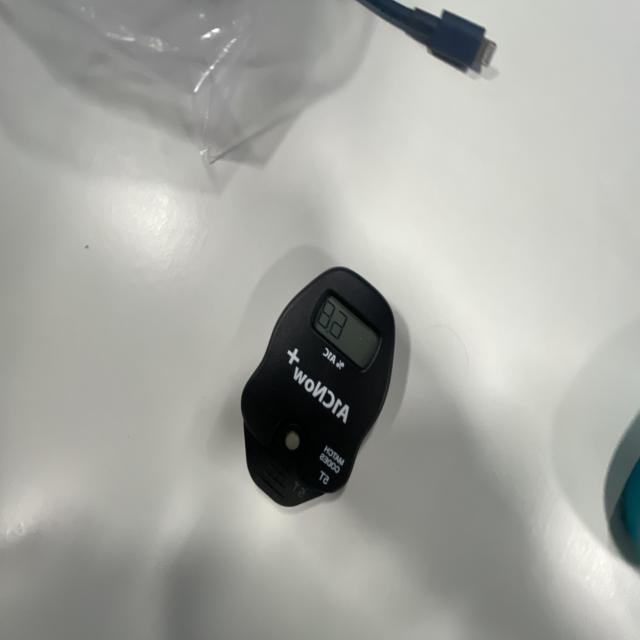hba1c: (239, 267, 407, 512)
